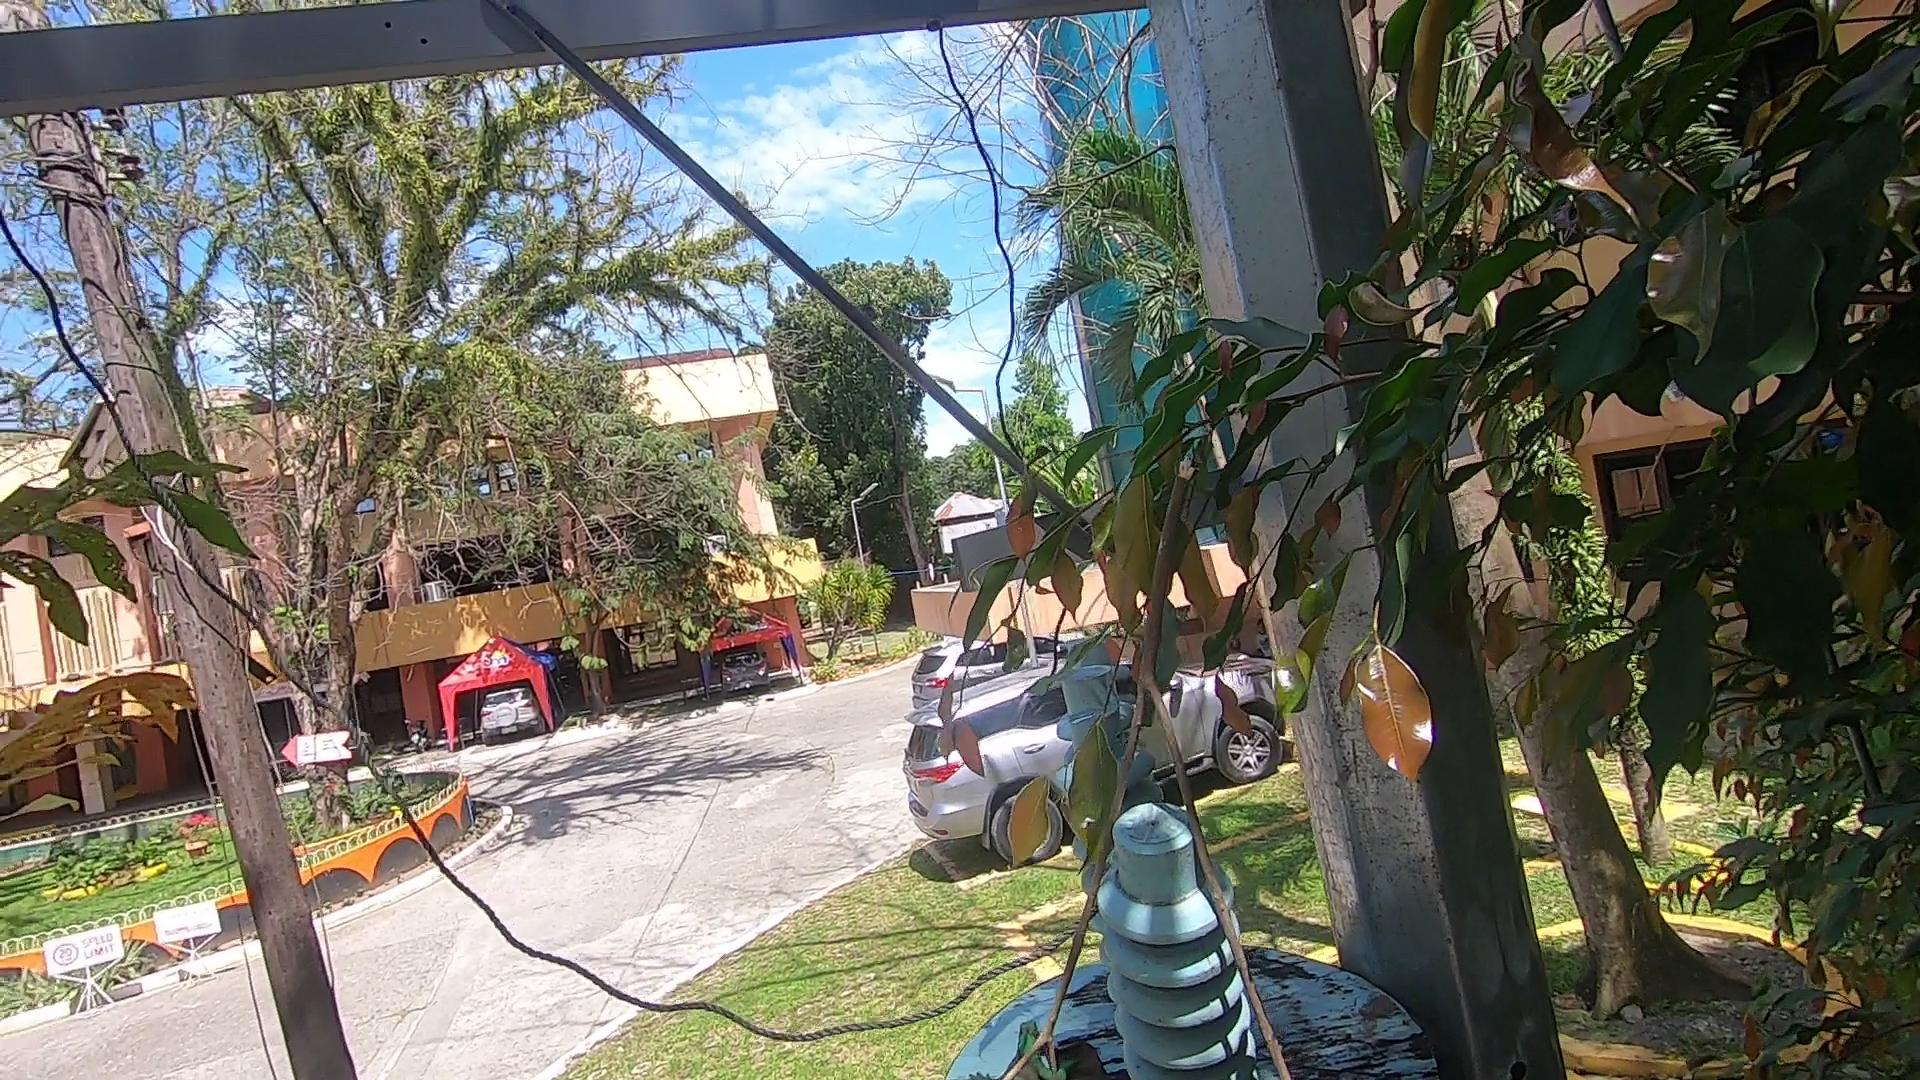leaf: (1051, 1040, 1093, 1080)
tree branch: (975, 439, 1284, 1080)
